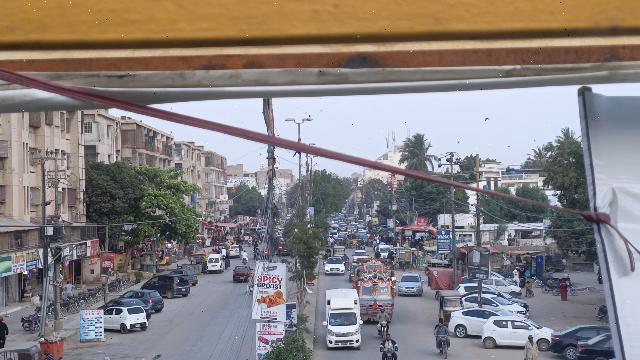Bike: (434, 332, 455, 359), (376, 320, 392, 338), (380, 347, 400, 360)
Bus: (352, 261, 396, 321)
Car: (480, 315, 551, 350), (548, 324, 606, 356), (449, 308, 505, 339), (139, 274, 191, 299), (101, 306, 149, 333), (575, 333, 613, 360), (124, 289, 166, 311), (397, 273, 425, 299), (100, 299, 150, 312), (323, 256, 345, 276), (232, 265, 250, 282)
Person: (521, 333, 540, 360), (379, 332, 400, 350), (434, 319, 450, 337), (0, 314, 8, 348), (374, 305, 390, 322)
Rickshaw: (436, 289, 461, 324)
Truck: (322, 287, 365, 351)
